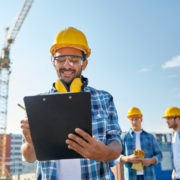yellow: (51, 25, 91, 80), (126, 106, 145, 130), (164, 105, 179, 129)
